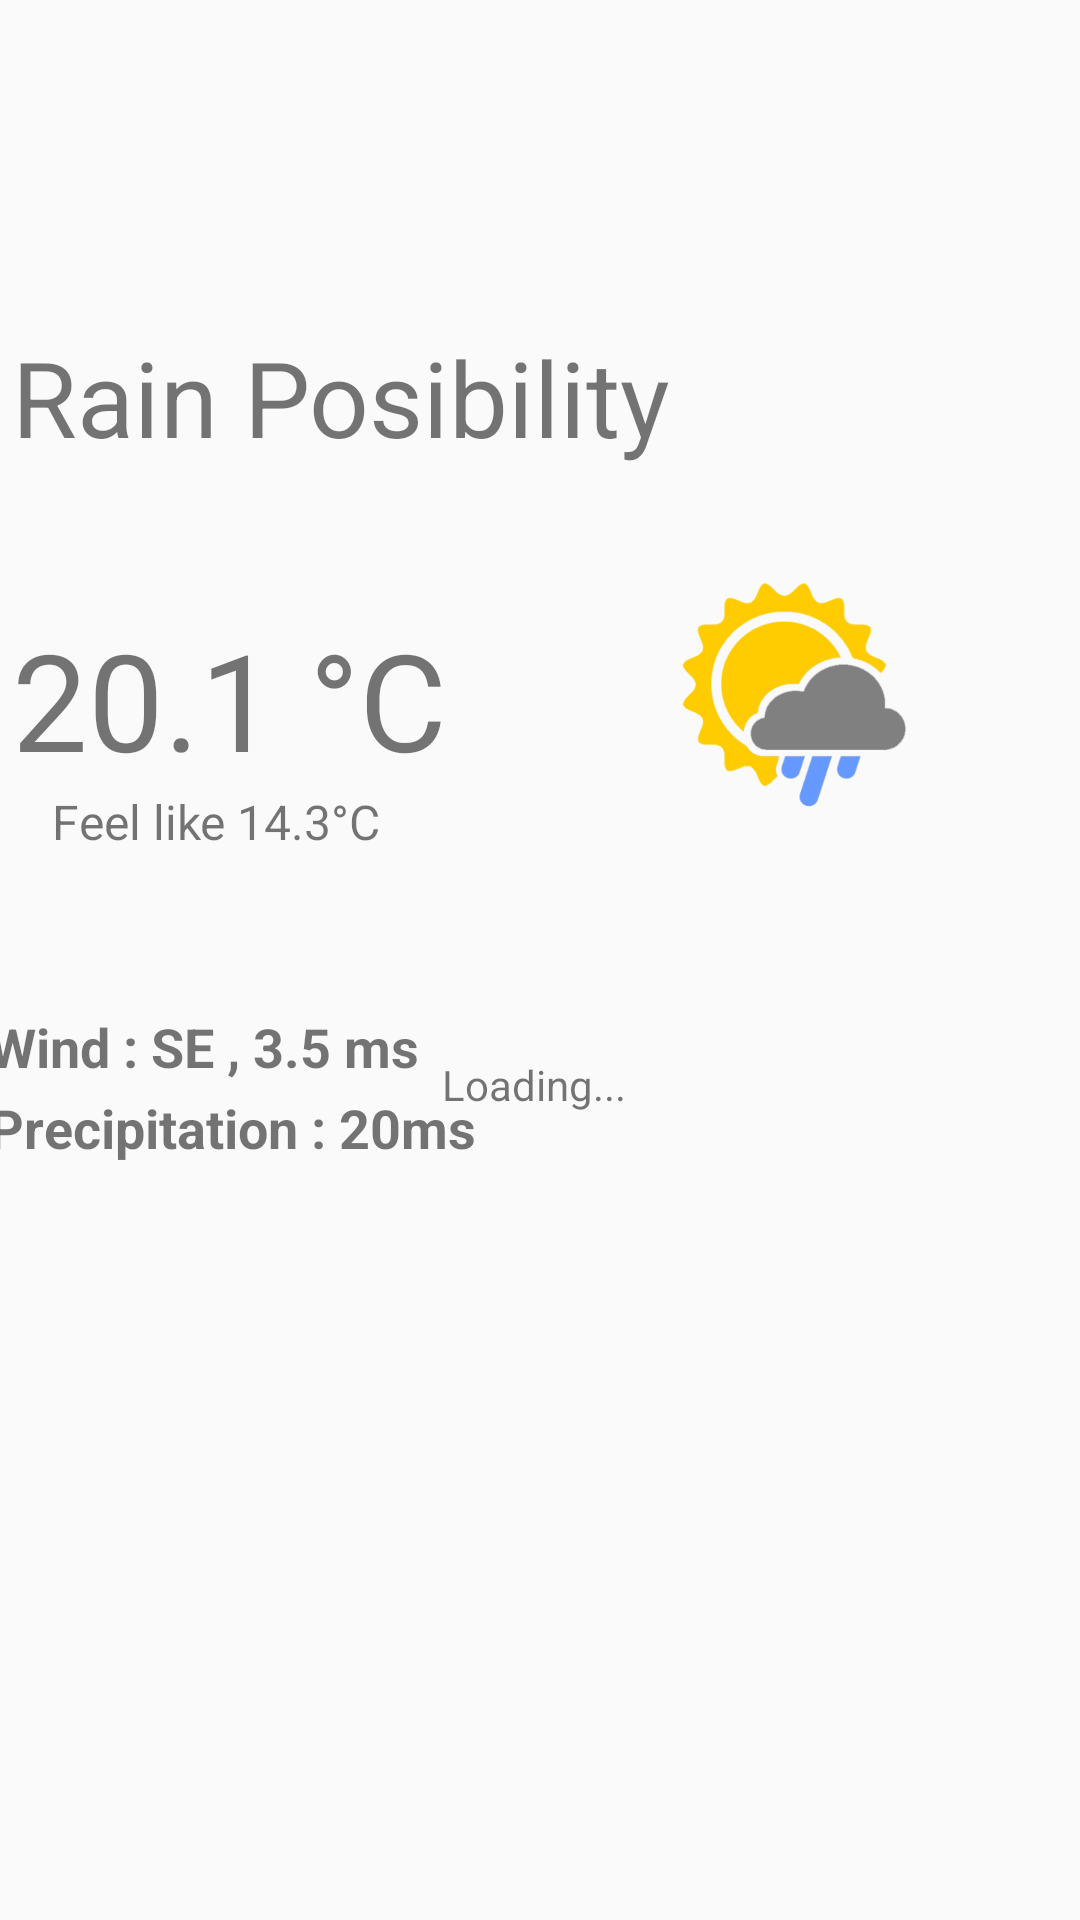

Named icons in this screenshot (1080x1920) and their centers, (x,y):
weathericons: (794,694)
